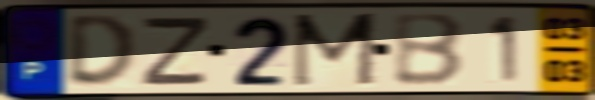1: (485, 13, 521, 86)
2: (226, 11, 295, 91)
B: (390, 11, 467, 88)
D: (64, 12, 141, 91)
M: (288, 10, 383, 91)
Z: (137, 14, 213, 88)
